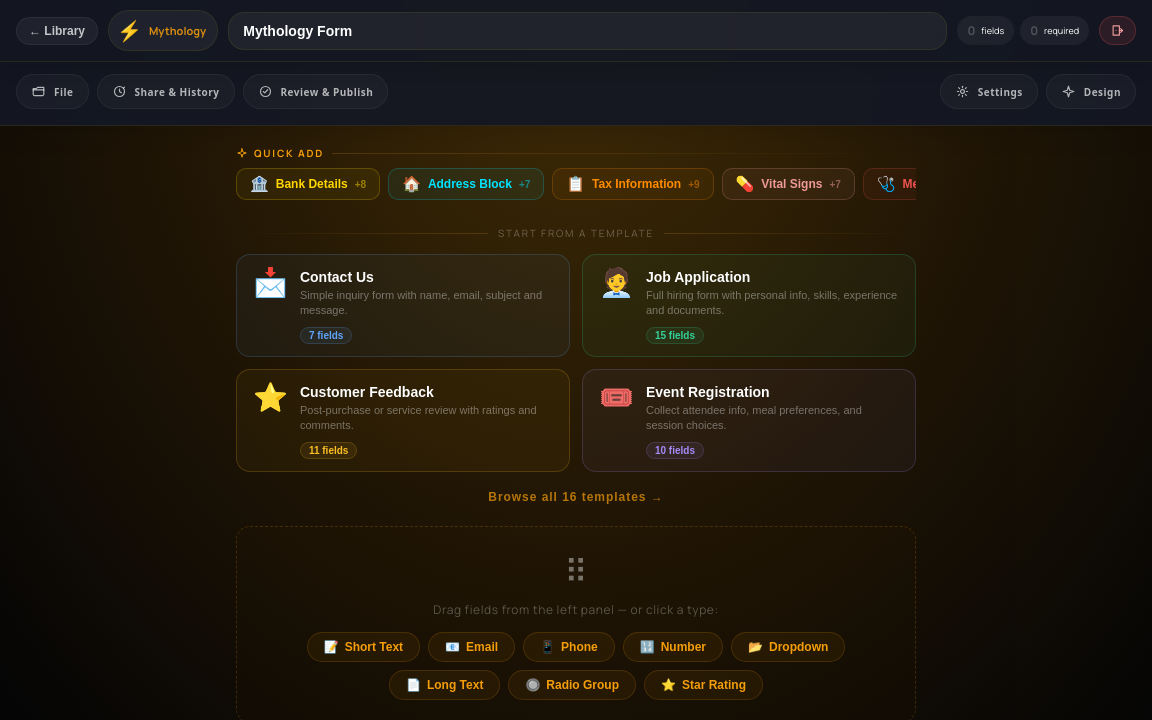
Test: LibraryFormBuilder › switches from settings to design without leaving the settings panel stuck open
The width and height of the screenshot is (1152, 720).
Click the button "Settings" at (989, 92), box [940,74,1038,109]
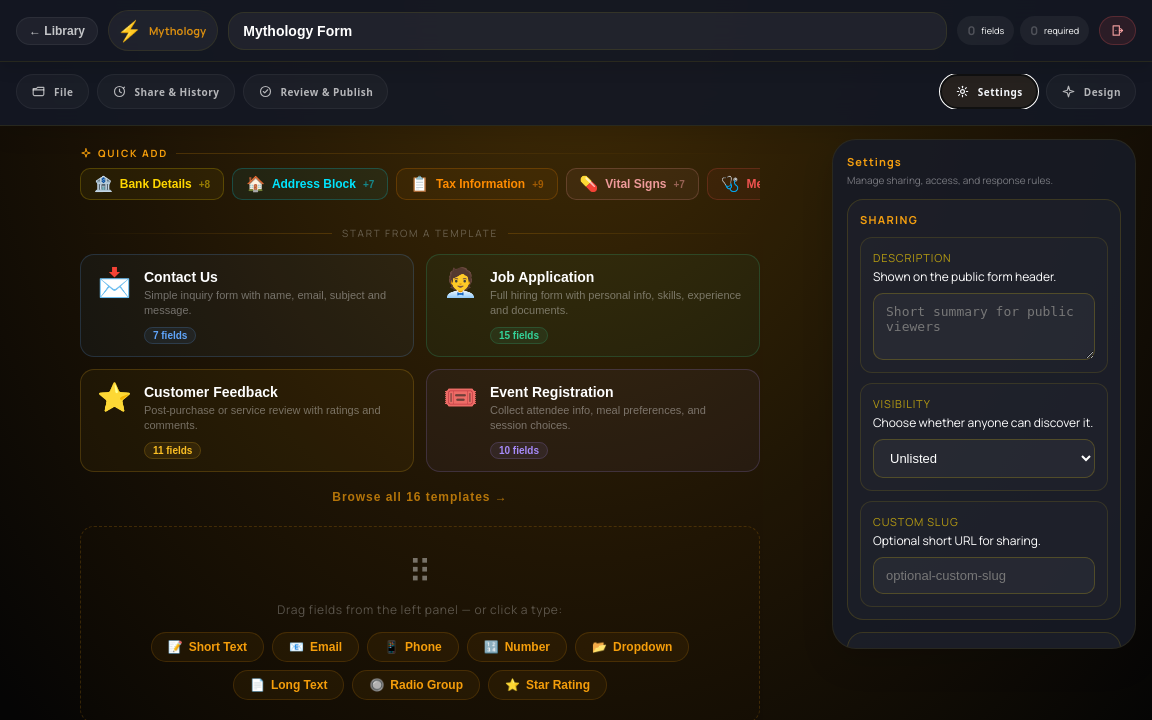
Expected: the text "Manage sharing, access, and response rules." is shown, [847,173,1053,187]
Click the button "Design" at (1091, 92), box [1046,74,1136,109]
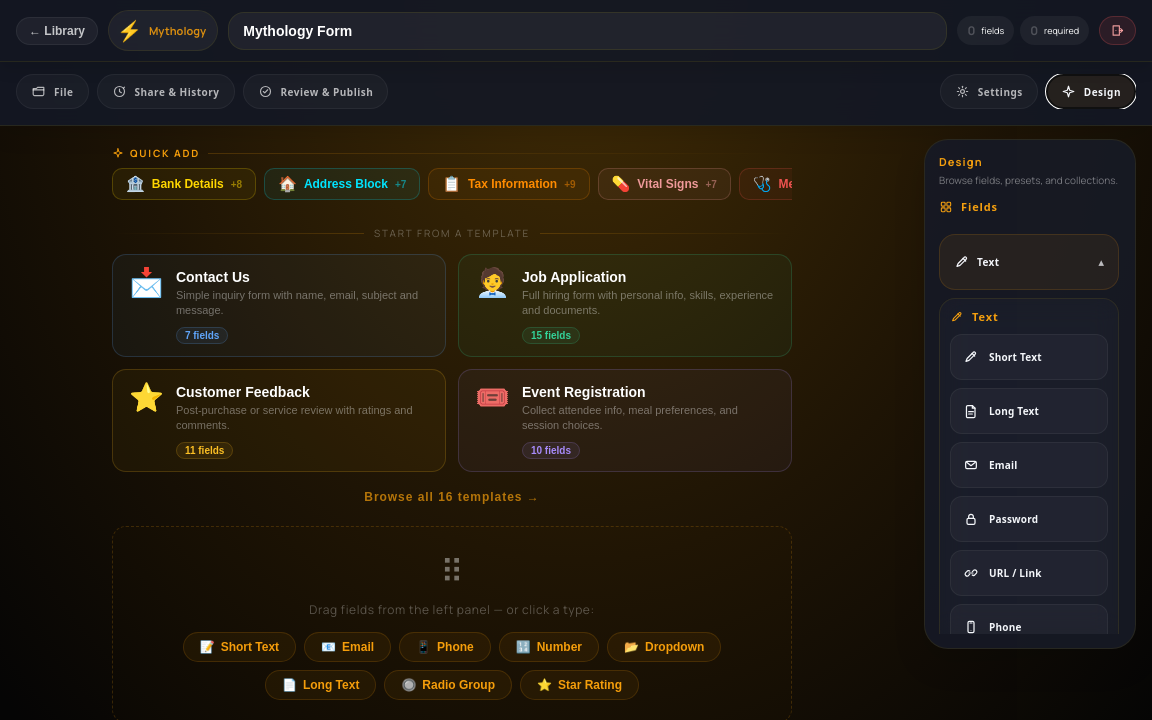
Expected: the text "Manage sharing, access, and response rules." is gone
Expected: the text "Browse fields, presets, and collections." is shown, [939,173,1121,187]
